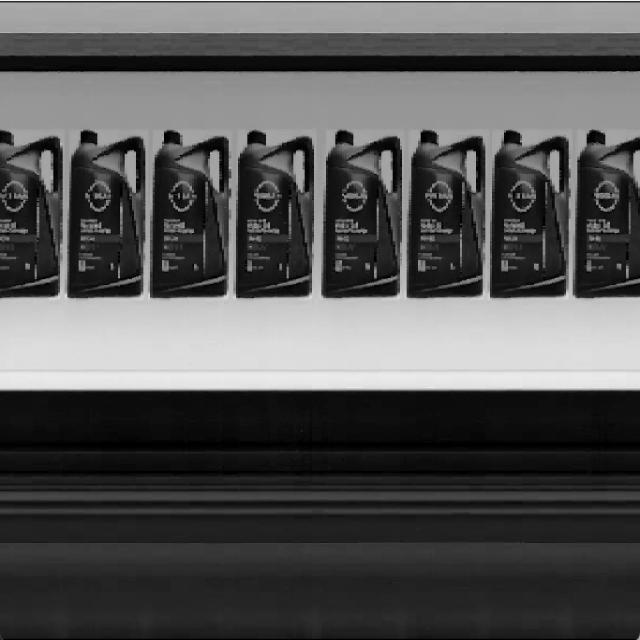motor_oil: (488, 126, 572, 302), (321, 125, 404, 303), (147, 128, 230, 304), (233, 126, 314, 303), (66, 125, 146, 300), (407, 126, 486, 301), (577, 121, 640, 304), (0, 129, 63, 304)
